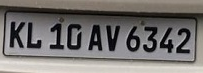0: (66, 23, 82, 50)
1: (49, 22, 65, 50)
2: (175, 26, 191, 55)
3: (142, 25, 158, 53)
4: (159, 26, 175, 53)
6: (126, 25, 141, 53)
A: (88, 24, 103, 52)
K: (8, 20, 26, 49)
L: (26, 20, 43, 50)
V: (105, 25, 122, 52)
